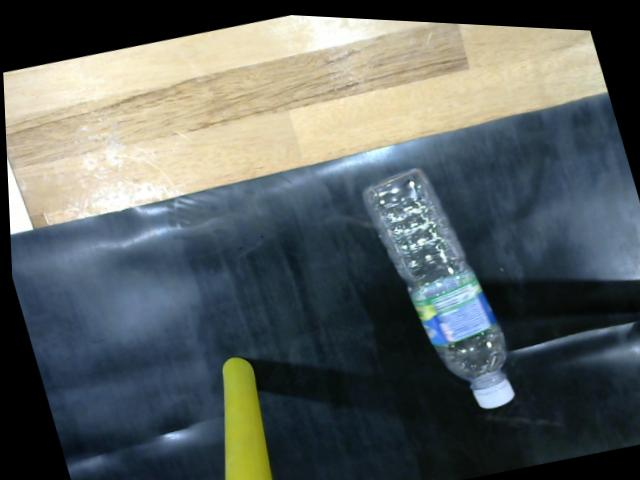bottle: (354, 155, 517, 408)
